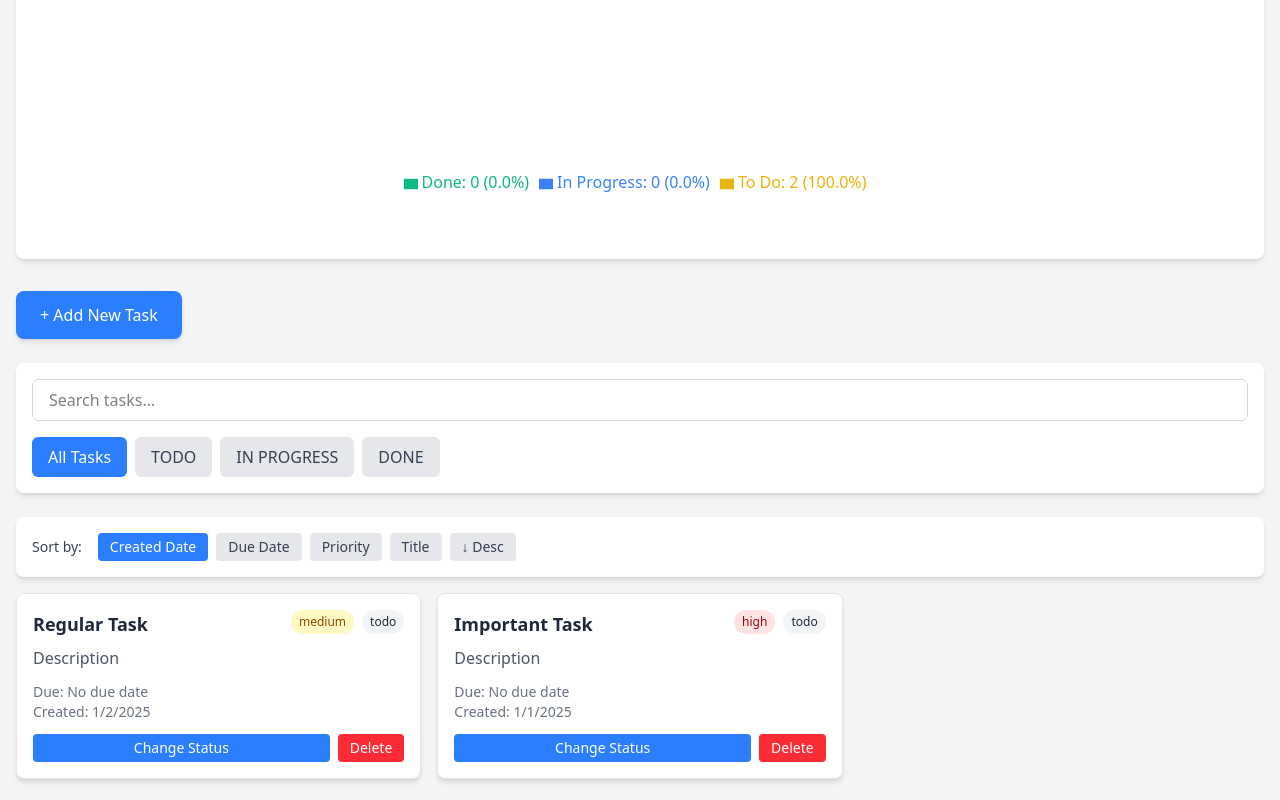
App Integration Tests › Filtering and Searching Flow › should search tasks by title
The image size is (1280, 800).
(page scrolled)
# Search for "Important"
In the field with placeholder "Search tasks...": (640, 400) x1=32 y1=379 x2=1248 y2=421, type "Important"
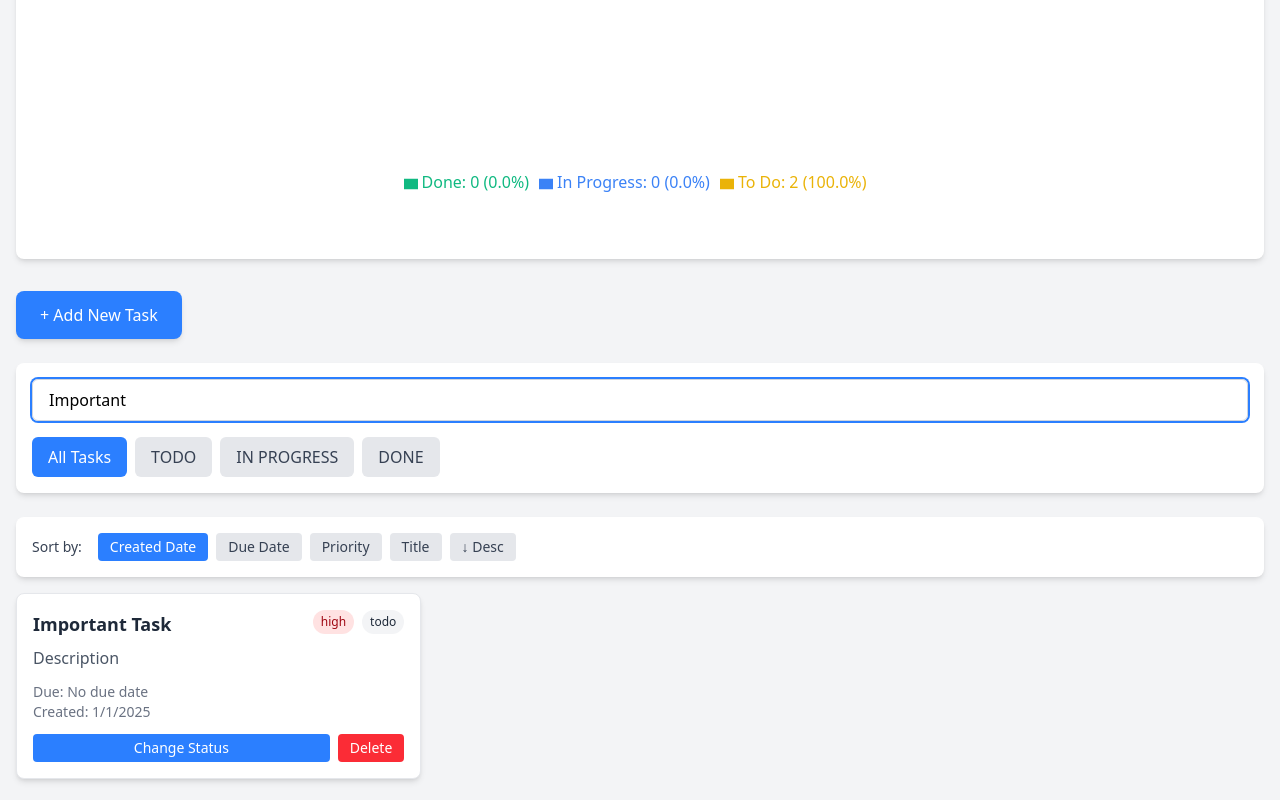
Expected: the heading "Important Task" is shown, x1=33 y1=610 x2=171 y2=638
Expected: the heading "Regular Task" is gone
